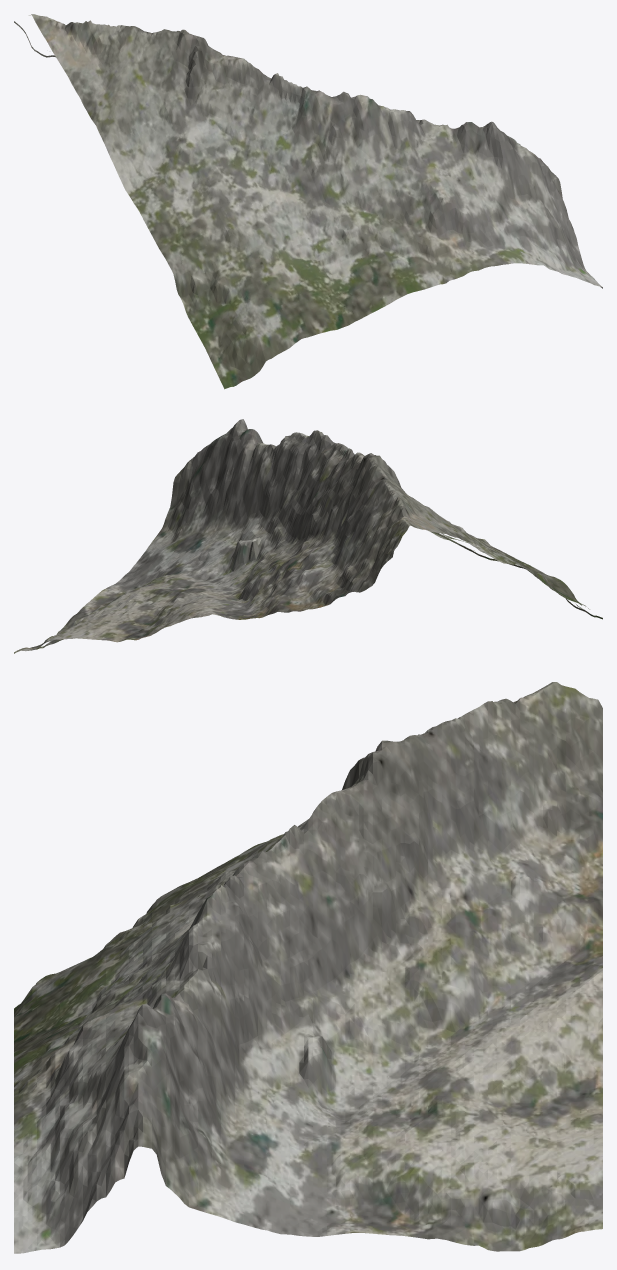
3 views of the same model, one above another, from view 1: azimuth 30°, elevation 25°; view 2: azimuth 150°, elevation 25°; view 3: azimuth 270°, elevation 25° (orthographic). The views are drawn at different scales.
Size of the model in its own units: 250 by 151 by 241.
1 material, 1 textured.
